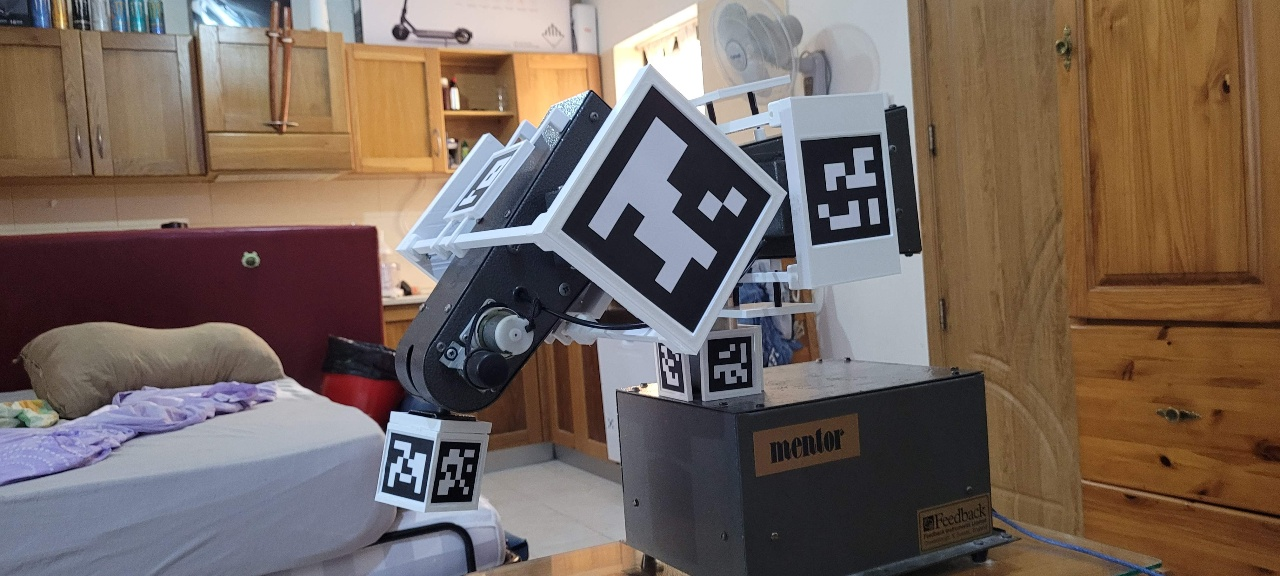Robot: (410, 18, 850, 576)
